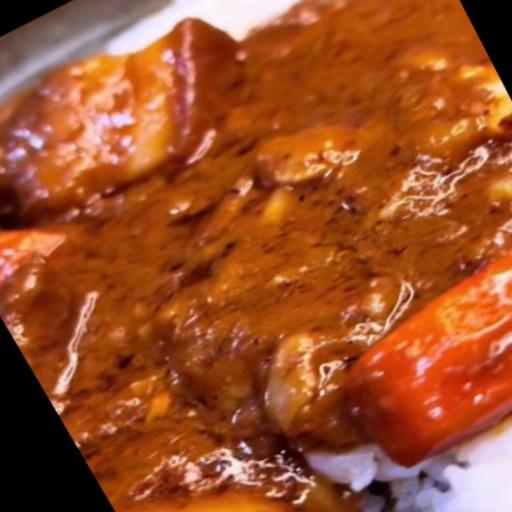pork caldereta: (0, 1, 511, 511)
